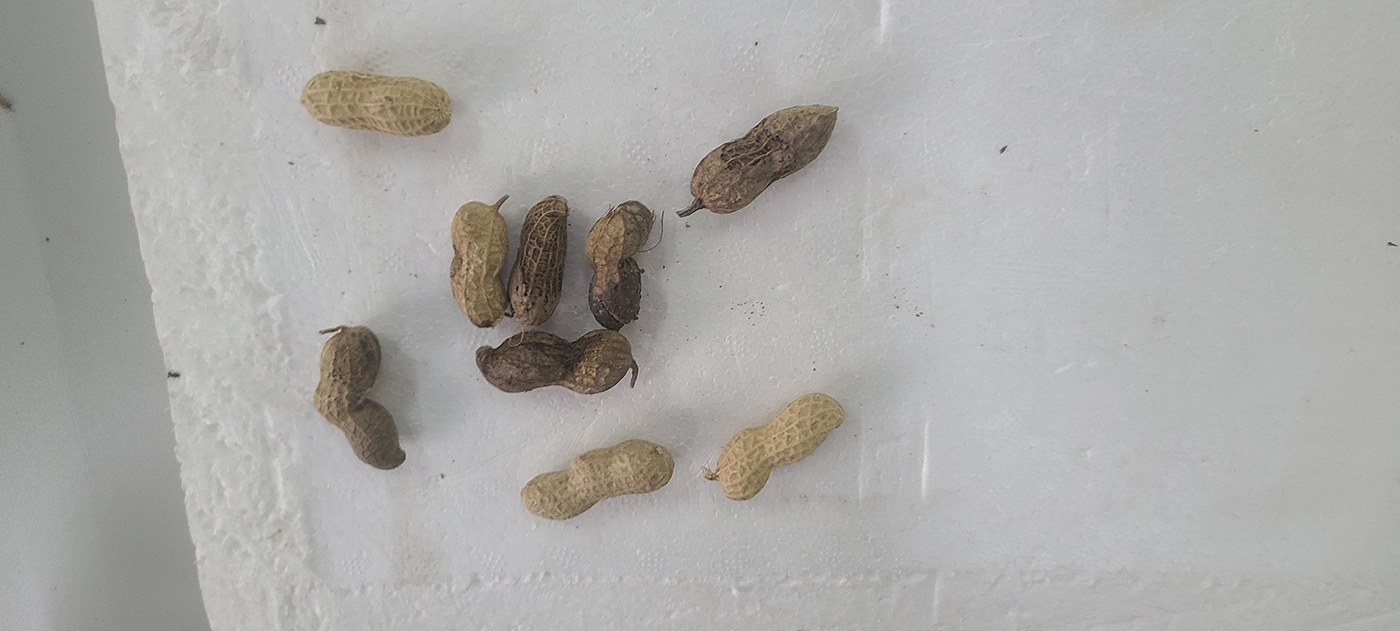h: (716, 392, 846, 502), (518, 440, 675, 519), (303, 70, 452, 136)
l: (688, 104, 839, 216), (314, 325, 408, 471), (476, 330, 633, 395), (582, 202, 653, 329), (509, 194, 568, 328), (450, 201, 511, 328)
